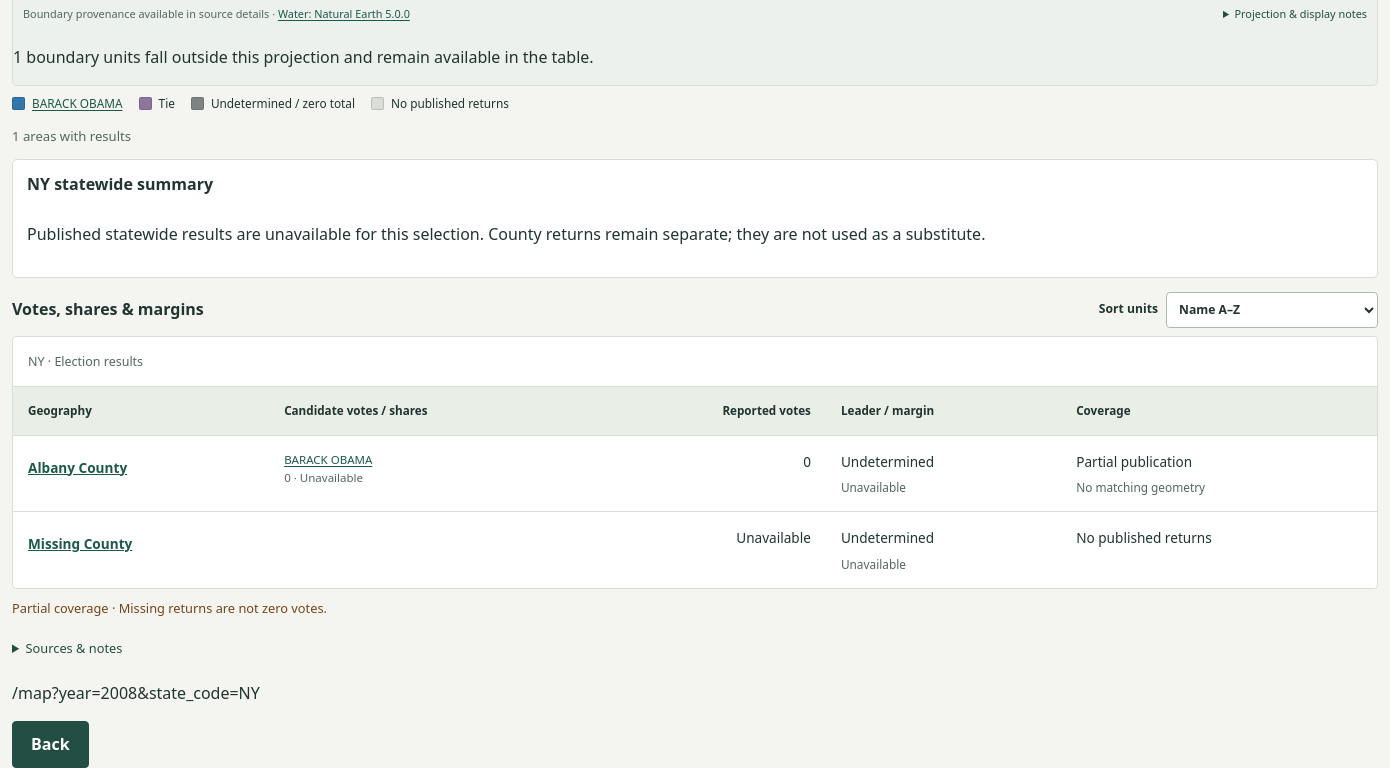
Test: election map display › keeps missing returns, stored zero totals and unmatched geometry visible
(page scrolled)
Expected: the text "0" is shown, x1=600 y1=436 x2=826 y2=512
Expected: the text "No matching geometry" is shown, x1=1076 y1=479 x2=1205 y2=495
Click the button "Missing County" at (80, 544), box x1=28 y1=528 x2=132 y2=560
(page scrolled)
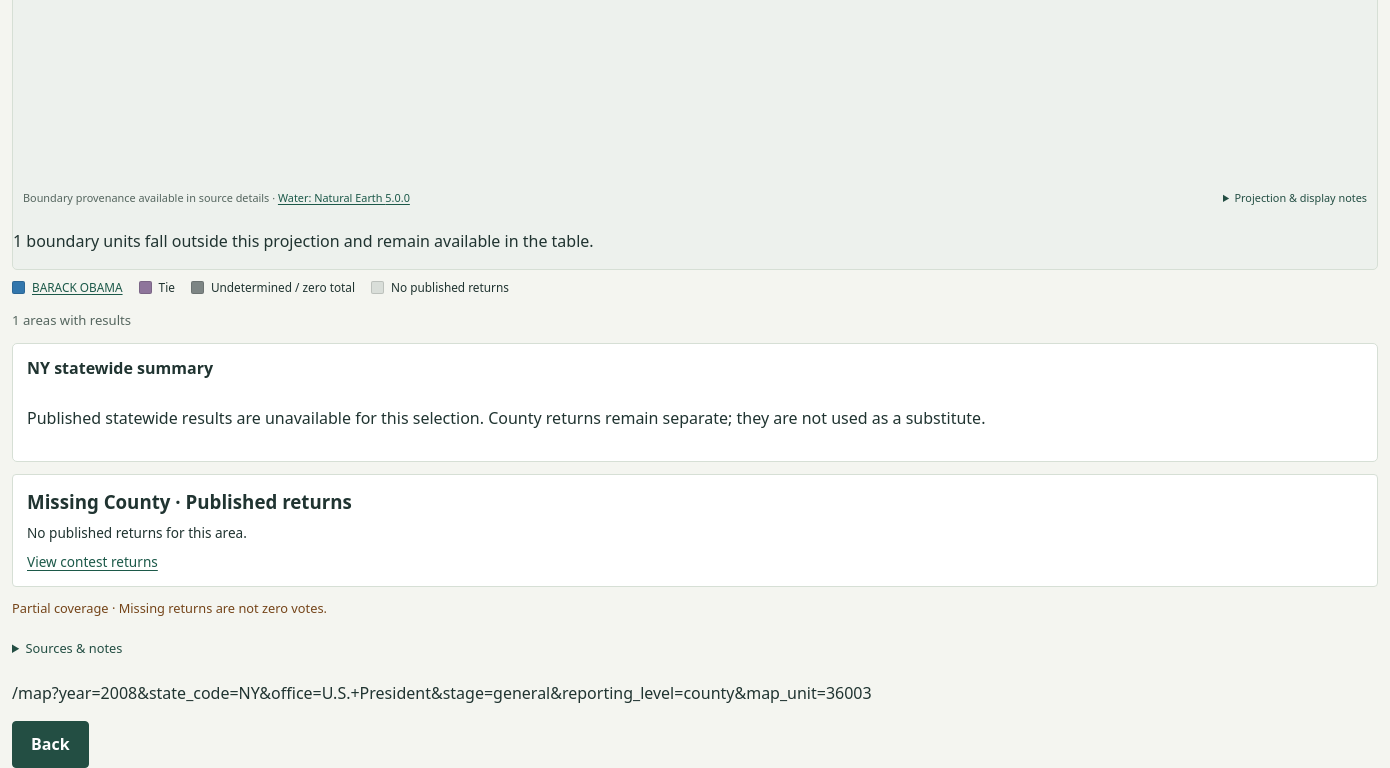
Expected: the text "No published returns for this area." is shown, x1=27 y1=523 x2=247 y2=542
Expected: the text with test id "location" shows "map_unit=36003", x1=52 y1=682 x2=872 y2=704
